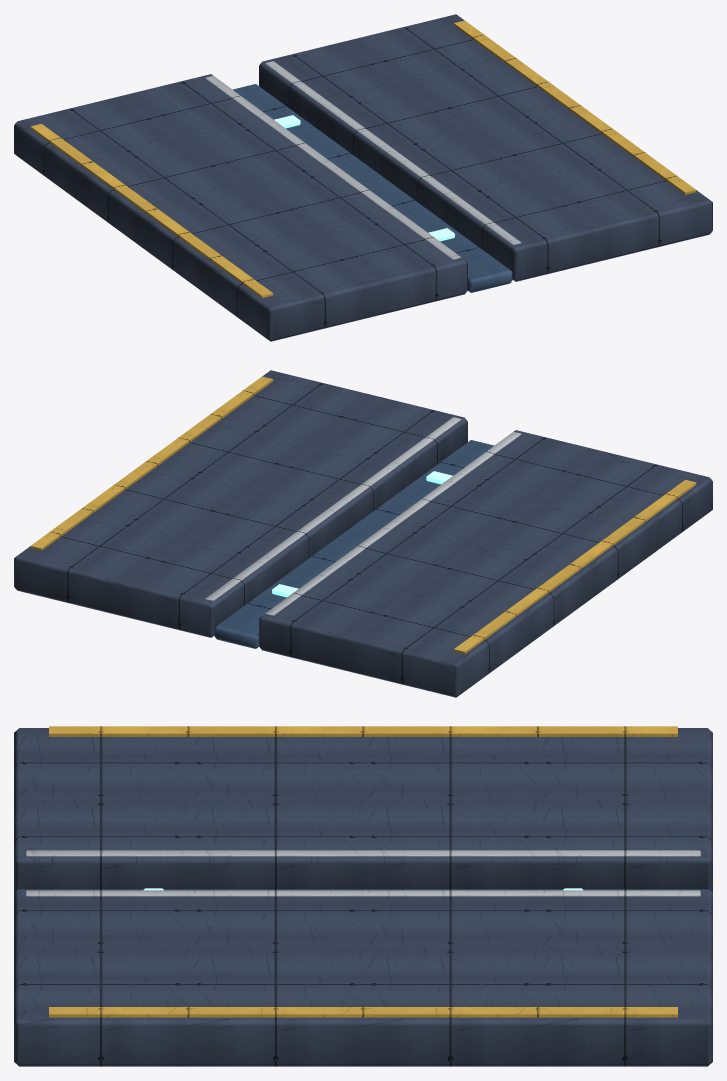
Rendered from floor_tile.glb.
The picture shows the model from 3 angles, top to bottom: view 1: azimuth 30°, elevation 25°; view 2: azimuth 150°, elevation 25°; view 3: azimuth 270°, elevation 25°; orthographic projection. The views are drawn at different scales.
Visible parts, largest first — view 1: floor_tile_graphite_navy, floor_tile_amber_accent, floor_tile_navy_frame, floor_tile_titanium; view 2: floor_tile_graphite_navy, floor_tile_amber_accent, floor_tile_navy_frame, floor_tile_titanium; view 3: floor_tile_graphite_navy, floor_tile_amber_accent, floor_tile_titanium, floor_tile_navy_frame.
Part boxes in pixels (left/top/right/bottom): floor_tile_graphite_navy: left=14, top=14, right=712, bottom=341; floor_tile_amber_accent: left=30, top=20, right=696, bottom=297; floor_tile_navy_frame: left=232, top=84, right=512, bottom=292; floor_tile_titanium: left=205, top=61, right=521, bottom=259; floor_tile_graphite_navy: left=14, top=370, right=712, bottom=697; floor_tile_amber_accent: left=30, top=376, right=696, bottom=653; floor_tile_navy_frame: left=214, top=440, right=494, bottom=648; floor_tile_titanium: left=205, top=417, right=521, bottom=615; floor_tile_graphite_navy: left=14, top=728, right=712, bottom=1066; floor_tile_amber_accent: left=49, top=726, right=677, bottom=1017; floor_tile_titanium: left=26, top=850, right=700, bottom=896; floor_tile_navy_frame: left=14, top=889, right=712, bottom=894.
Size of the model in its own units: 4 by 0.325 by 4.
Materials: 5 (4 with a texture image).
